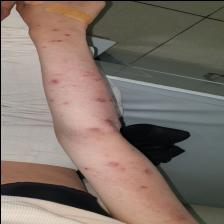DA: (47, 74, 112, 105), (78, 158, 154, 176), (37, 31, 83, 52), (114, 178, 162, 194)
